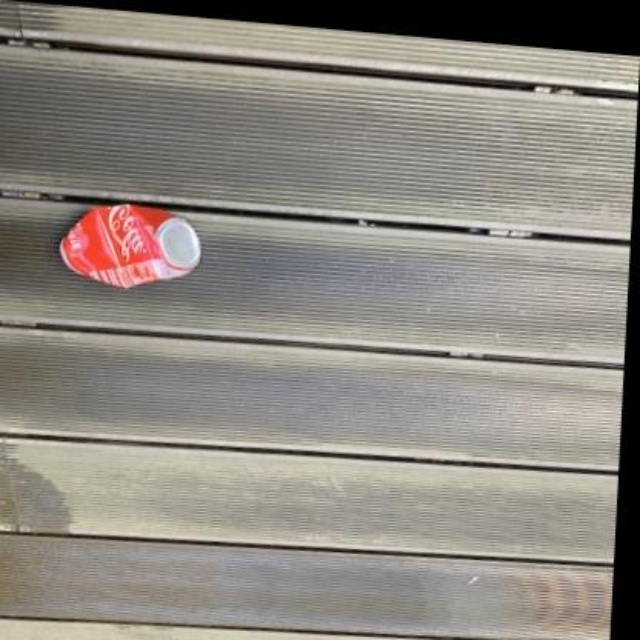trash: (60, 205, 200, 286)
